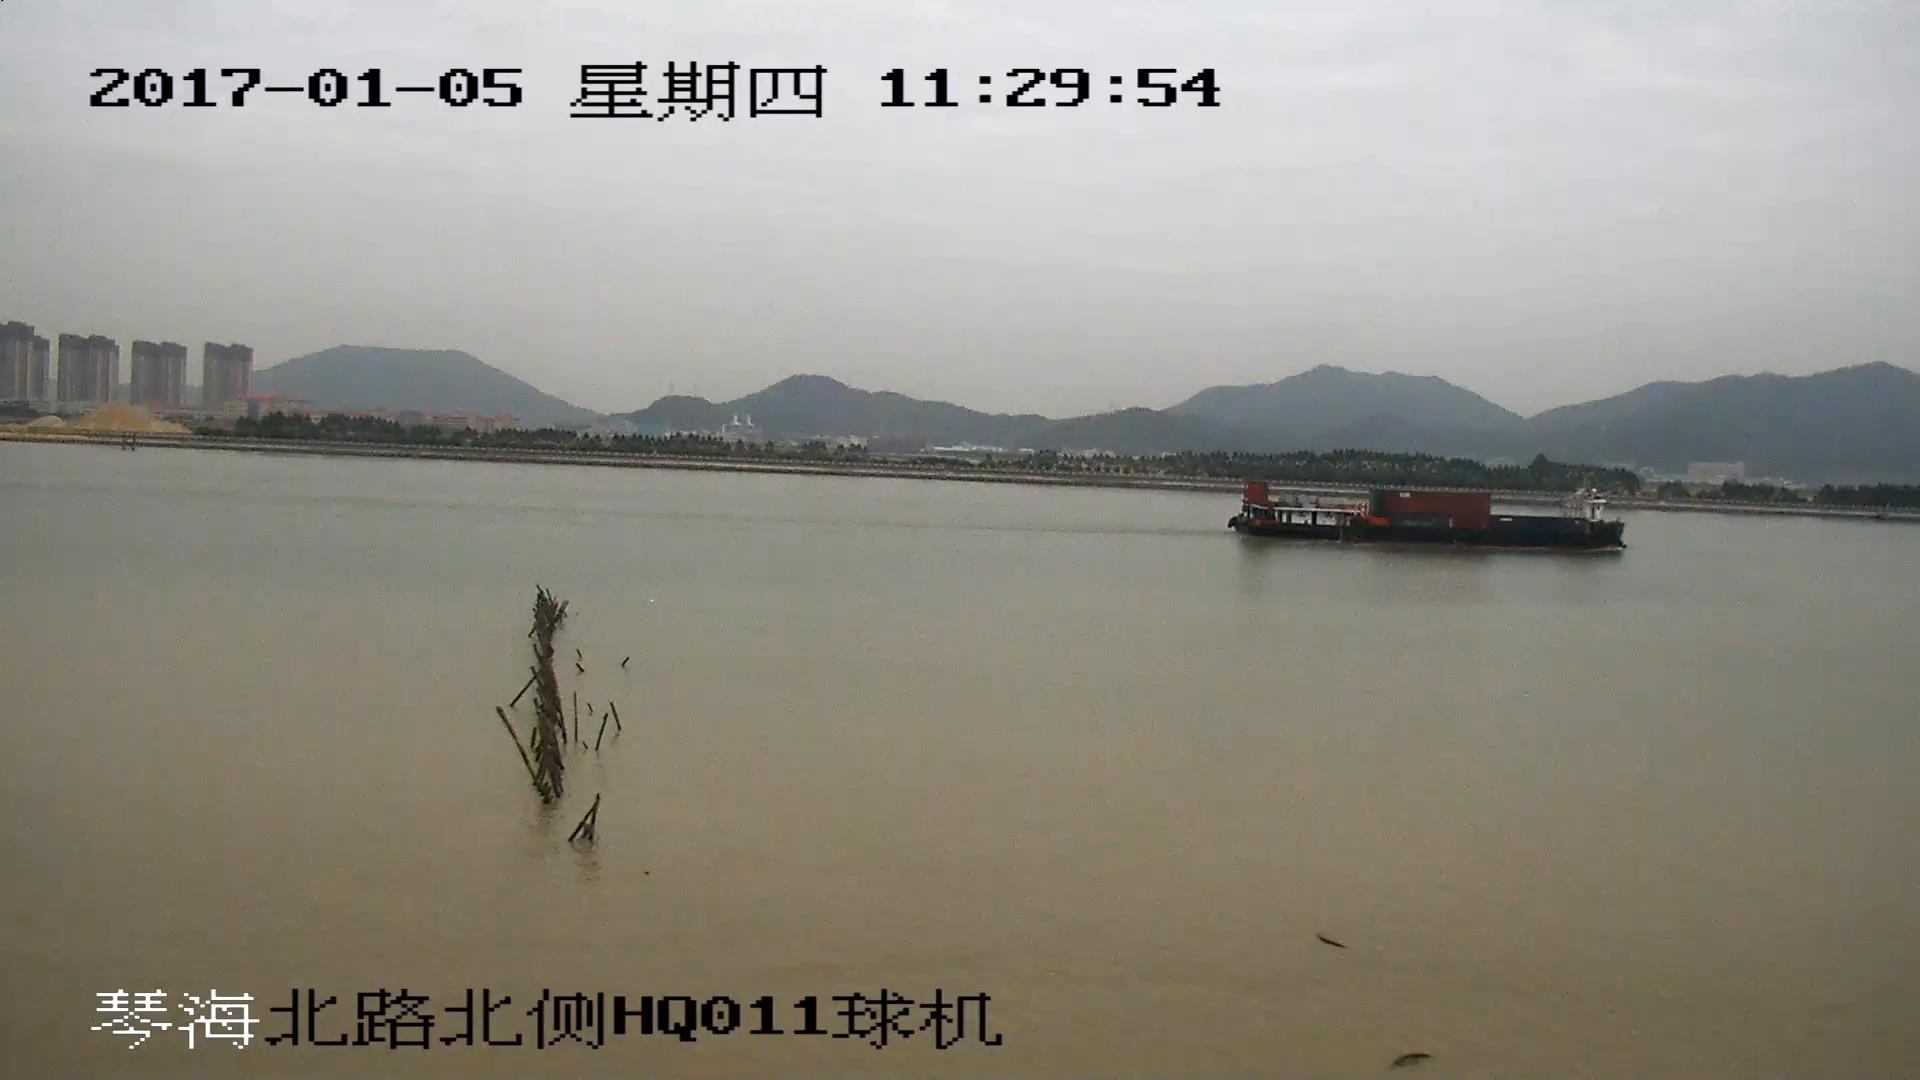container ship: (1227, 482, 1627, 552)
